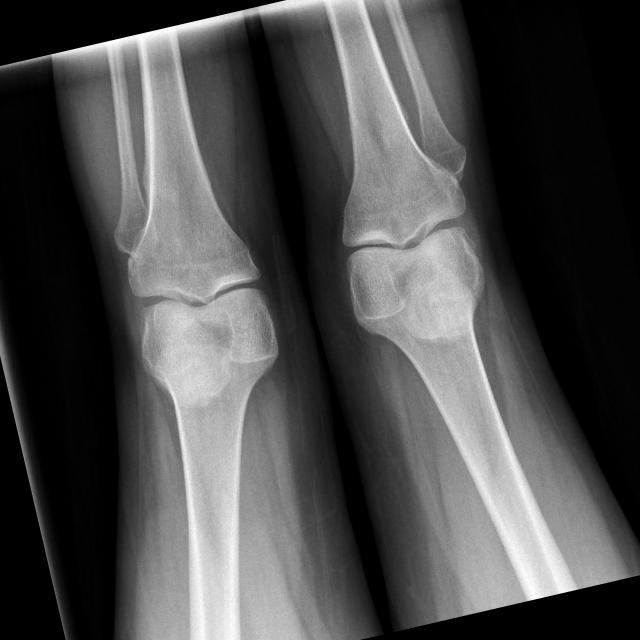Knee: (322, 164, 488, 318), (114, 225, 278, 371)
